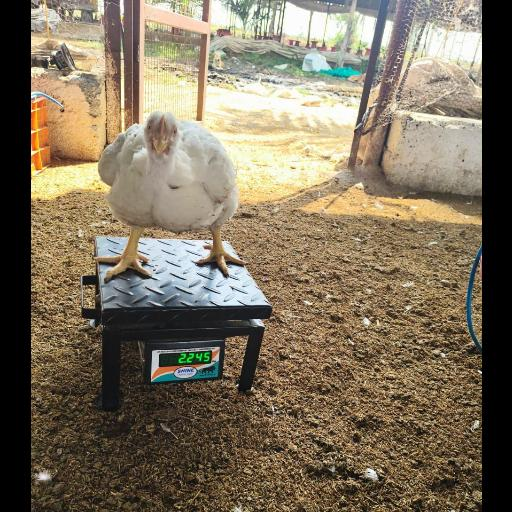chick: (94, 114, 244, 280)
